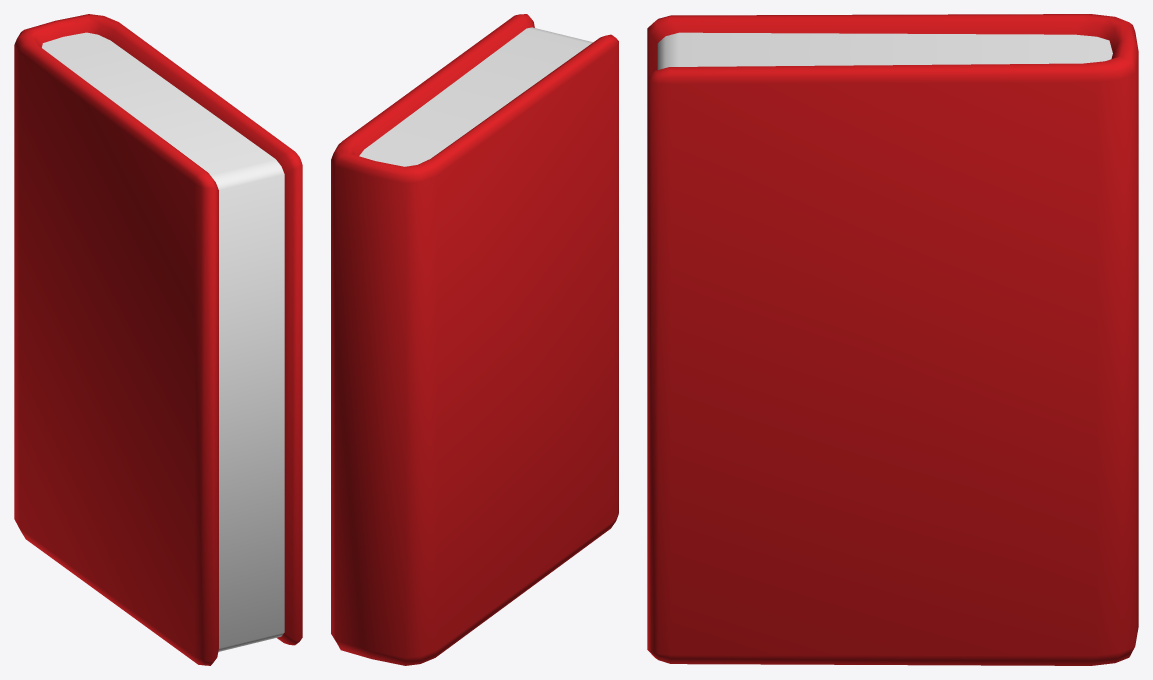
The model's file is Book06.fbx.
3 views of the same model, side by side, from view 1: azimuth 30°, elevation 25°; view 2: azimuth 150°, elevation 25°; view 3: azimuth 270°, elevation 25° (orthographic). The views are drawn at different scales.
Visible parts, largest first — view 1: Book06; view 2: Book06; view 3: Book06.
Part boxes in pixels (bbox=[...]): Book06: bbox=[14, 14, 302, 665]; Book06: bbox=[331, 14, 618, 665]; Book06: bbox=[647, 14, 1138, 665].
Size of the model in its own units: 0.0443 by 0.1506 by 0.2031.
